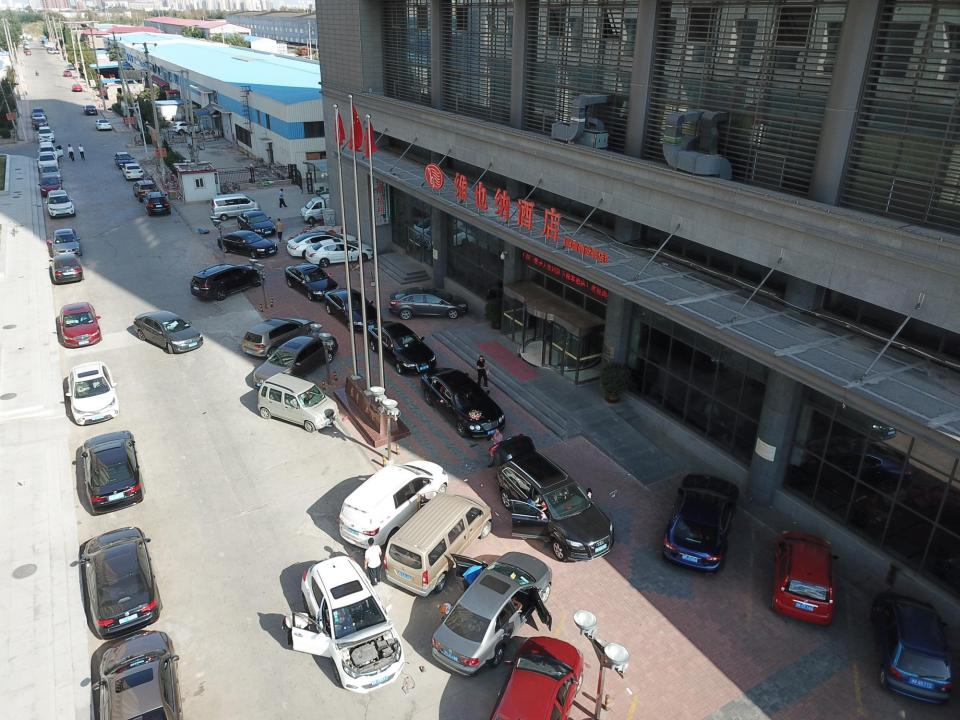car: (488, 434, 614, 561), (431, 551, 553, 677), (292, 556, 404, 692), (340, 460, 449, 548), (78, 526, 162, 638), (872, 590, 952, 704), (92, 630, 184, 719), (491, 636, 584, 720), (663, 473, 740, 574), (772, 530, 840, 626), (420, 366, 506, 438), (81, 430, 146, 515), (257, 372, 340, 432), (254, 333, 338, 391), (368, 320, 436, 374), (65, 362, 120, 426), (133, 310, 204, 353), (243, 318, 317, 358), (190, 264, 266, 301), (388, 286, 468, 320), (326, 288, 382, 330), (57, 301, 103, 348), (285, 263, 340, 301), (306, 238, 374, 266), (286, 232, 358, 258), (217, 230, 279, 258), (236, 210, 277, 238), (48, 254, 84, 284), (50, 228, 81, 258), (45, 190, 75, 219), (142, 192, 172, 216), (133, 180, 159, 202), (38, 175, 63, 196), (38, 140, 64, 160), (173, 120, 206, 135), (120, 163, 144, 181), (114, 151, 136, 169), (40, 163, 62, 181), (38, 152, 59, 170), (36, 126, 54, 142), (275, 218, 285, 242), (95, 118, 112, 131), (32, 118, 49, 130), (279, 188, 288, 209), (82, 105, 98, 115), (31, 108, 46, 117), (32, 113, 46, 122), (71, 84, 82, 91), (63, 70, 72, 76), (66, 64, 74, 70)
truck: (299, 194, 350, 224)
van: (385, 490, 491, 597), (210, 193, 261, 221)
